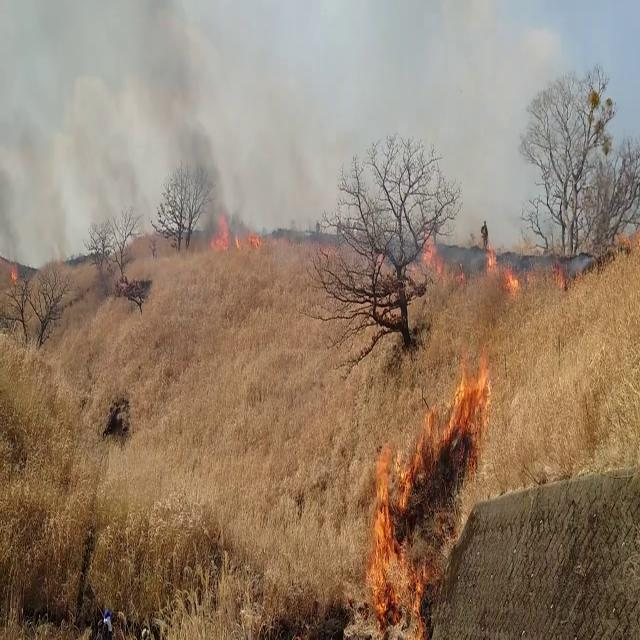Fire: (360, 337, 507, 630), (482, 241, 520, 296), (411, 232, 447, 278), (206, 208, 236, 256)
Smoke: (3, 0, 260, 241)
